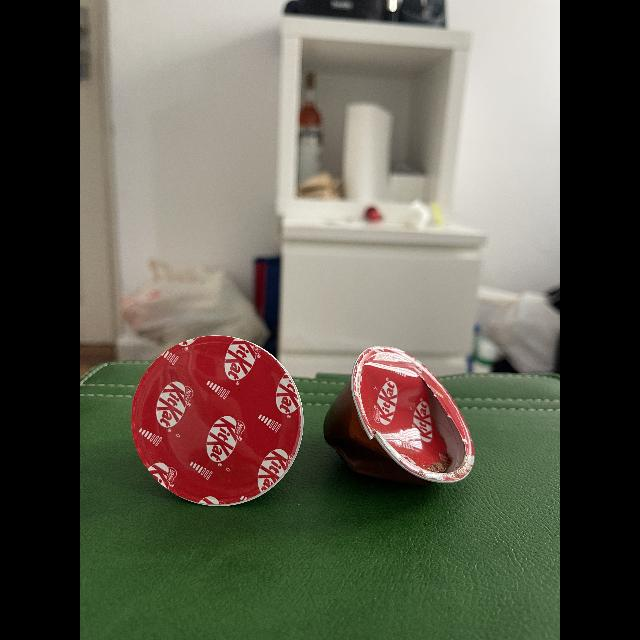damaged_capsule: (323, 342, 481, 503)
intact_capsule: (127, 333, 315, 513)
